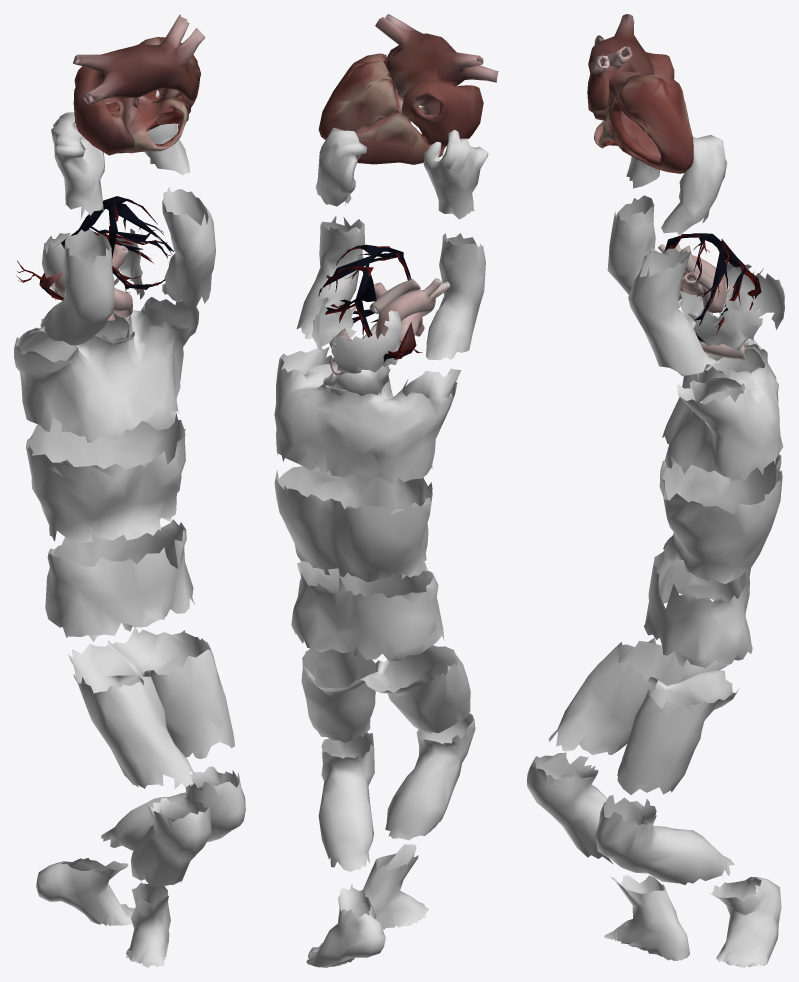
Rendered from OUTSIDE_BODY2.fbx.
3 views of the same model, side by side, from view 1: azimuth 30°, elevation 25°; view 2: azimuth 150°, elevation 25°; view 3: azimuth 270°, elevation 25° (orthographic). The views are drawn at different scales.
Visible parts, largest first — view 1: Body, Heart, Organs2, Organs; view 2: Body, Heart, Organs, Organs2; view 3: Body, Heart, Organs, Organs2.
Part boxes in pixels (<box>): Body: <box>14,90,245,967</box>; Heart: <box>73,14,205,155</box>; Organs2: <box>16,196,173,300</box>; Organs: <box>55,244,132,322</box>; Body: <box>274,127,488,967</box>; Heart: <box>318,14,498,164</box>; Organs: <box>329,278,450,375</box>; Organs2: <box>318,244,422,361</box>; Body: <box>527,135,784,967</box>; Heart: <box>587,14,693,173</box>; Organs: <box>649,243,745,359</box>; Organs2: <box>664,233,763,342</box>.
Bounding box in the file's own units: 18.67 × 94.88 × 24.23.
